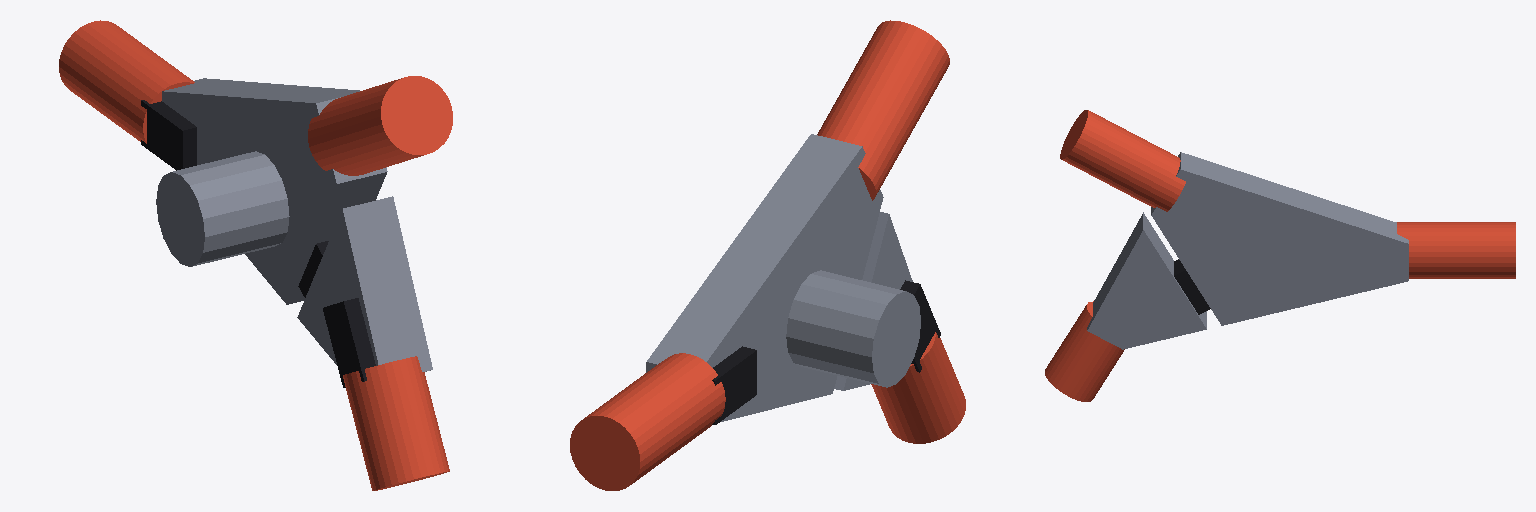
URDF robot description (g0053_c00):
<robot name="g0053_c00">
  <link name="palm">
    <visual name="palm_palm1">
      <origin xyz="0 0 0" rpy="0 0 0" />
      <geometry>
        <mesh filename="palm_palm1.obj" />
      </geometry>
      <material name="palm_palm1_mat">
        <color rgba="0.55 0.57 0.62 1" />
      </material>
    </visual>
    <collision>
      <origin xyz="0 0 0" rpy="0 0 0" />
      <geometry>
        <mesh filename="palm_palm1.obj" />
      </geometry>
    </collision>
    <visual name="palm_mount2">
      <origin xyz="0 0 0" rpy="0 0 0" />
      <geometry>
        <mesh filename="palm_mount2.obj" />
      </geometry>
      <material name="palm_mount2_mat">
        <color rgba="0.55 0.57 0.62 1" />
      </material>
    </visual>
    <collision>
      <origin xyz="0 0 0" rpy="0 0 0" />
      <geometry>
        <mesh filename="palm_mount2.obj" />
      </geometry>
    </collision>
    <visual name="palm_hinge3">
      <origin xyz="0 -0.0281458256 -0.01625" rpy="1.57079633 -1.04719755 -1.57079633" />
      <geometry>
        <box size="0.029 0.034 0.02" />
      </geometry>
      <material name="palm_hinge3_mat">
        <color rgba="0.15 0.15 0.17 1" />
      </material>
    </visual>
    <collision>
      <origin xyz="0 -0.0281458256 -0.01625" rpy="1.57079633 -1.04719755 -1.57079633" />
      <geometry>
        <box size="0.029 0.034 0.02" />
      </geometry>
    </collision>
    <visual name="palm_motor4">
      <origin xyz="0 -0.0335048095 0.03625" rpy="-1.57079633 -1.04719755 1.57079633" />
      <geometry>
        <box size="0.029 0.034 0.02" />
      </geometry>
      <material name="palm_motor4_mat">
        <color rgba="0.15 0.15 0.17 1" />
      </material>
    </visual>
    <collision>
      <origin xyz="0 -0.0335048095 0.03625" rpy="-1.57079633 -1.04719755 1.57079633" />
      <geometry>
        <box size="0.029 0.034 0.02" />
      </geometry>
    </collision>
    <visual name="palm_motor5">
      <origin xyz="-0.0045 0.0725 -4.5924255e-19" rpy="-3.14159265 6.123234e-17 3.74939946e-33" />
      <geometry>
        <box size="0.029 0.034 0.02" />
      </geometry>
      <material name="palm_motor5_mat">
        <color rgba="0.15 0.15 0.17 1" />
      </material>
    </visual>
    <collision>
      <origin xyz="-0.0045 0.0725 -4.5924255e-19" rpy="-3.14159265 6.123234e-17 3.74939946e-33" />
      <geometry>
        <box size="0.029 0.034 0.02" />
      </geometry>
    </collision>
    <inertial>
      <origin xyz="8.48538889e-20 0.0103744945 0.00765481849" rpy="1.57079633 0.253246537 1.57079633" />
      <mass value="0.36393629" />
      <inertia ixx="0.000163588147" ixy="0" ixz="0" iyy="0.000534194366" iyz="0" izz="0.000662844629" />
    </inertial>
  </link>
  <link name="palm0">
    <visual name="palm0_palm1">
      <origin xyz="0 0 0" rpy="0 0 0" />
      <geometry>
        <mesh filename="palm0_palm1.obj" />
      </geometry>
      <material name="palm0_palm1_mat">
        <color rgba="0.55 0.57 0.62 1" />
      </material>
    </visual>
    <collision>
      <origin xyz="0 0 0" rpy="0 0 0" />
      <geometry>
        <mesh filename="palm0_palm1.obj" />
      </geometry>
    </collision>
    <visual name="palm0_motor2">
      <origin xyz="-0.0045 -0.0416089838 -0.0135048095" rpy="1.04719755 -3.061617e-17 -5.30287619e-17" />
      <geometry>
        <box size="0.029 0.034 0.02" />
      </geometry>
      <material name="palm0_motor2_mat">
        <color rgba="0.15 0.15 0.17 1" />
      </material>
    </visual>
    <collision>
      <origin xyz="-0.0045 -0.0416089838 -0.0135048095" rpy="1.04719755 -3.061617e-17 -5.30287619e-17" />
      <geometry>
        <box size="0.029 0.034 0.02" />
      </geometry>
    </collision>
    <inertial>
      <origin xyz="0 -0.0279323457 -0.00603367783" rpy="-1.57079633 1.427369 -1.57079633" />
      <mass value="0.112935129" />
      <inertia ixx="2.86574104e-05" ixy="0" ixz="0" iyy="3.78470282e-05" iyz="0" izz="5.56626662e-05" />
    </inertial>
  </link>
  <link name="f0_link0">
    <visual name="f0_link0_link1">
      <origin xyz="0.029 0 -3.46944695e-18" rpy="-1.57079633 -0 -1.57079633" />
      <geometry>
        <cylinder radius="0.0165" length="0.049" />
      </geometry>
      <material name="f0_link0_link1_mat">
        <color rgba="0.85 0.35 0.25 1" />
      </material>
    </visual>
    <collision>
      <origin xyz="0.029 0 -3.46944695e-18" rpy="-1.57079633 -0 -1.57079633" />
      <geometry>
        <cylinder radius="0.0165" length="0.049" />
      </geometry>
    </collision>
    <inertial>
      <origin xyz="0.029 0 0" rpy="0 0 0" />
      <mass value="0.106270851" />
      <inertia ixx="1.35696277e-05" ixy="0" ixz="0" iyy="5.30015704e-05" iyz="0" izz="5.30015704e-05" />
    </inertial>
  </link>
  <link name="f1_link0">
    <visual name="f1_link0_link1">
      <origin xyz="0.039 0 -1.04083409e-17" rpy="-1.57079633 -0 -1.57079633" />
      <geometry>
        <cylinder radius="0.0165" length="0.069" />
      </geometry>
      <material name="f1_link0_link1_mat">
        <color rgba="0.85 0.35 0.25 1" />
      </material>
    </visual>
    <collision>
      <origin xyz="0.039 0 -1.04083409e-17" rpy="-1.57079633 -0 -1.57079633" />
      <geometry>
        <cylinder radius="0.0165" length="0.069" />
      </geometry>
    </collision>
    <inertial>
      <origin xyz="0.039 0 0" rpy="0 0 0" />
      <mass value="0.136206302" />
      <inertia ixx="1.76445909e-05" ixy="0" ixz="0" iyy="0.000104842911" iyz="0" izz="0.000104842911" />
    </inertial>
  </link>
  <link name="f2_link0">
    <visual name="f2_link0_link1">
      <origin xyz="0.039 0 -3.85185989e-34" rpy="-1.57079633 -0 -1.57079633" />
      <geometry>
        <cylinder radius="0.0165" length="0.069" />
      </geometry>
      <material name="f2_link0_link1_mat">
        <color rgba="0.85 0.35 0.25 1" />
      </material>
    </visual>
    <collision>
      <origin xyz="0.039 0 -3.85185989e-34" rpy="-1.57079633 -0 -1.57079633" />
      <geometry>
        <cylinder radius="0.0165" length="0.069" />
      </geometry>
    </collision>
    <inertial>
      <origin xyz="0.039 0 0" rpy="0 0 0" />
      <mass value="0.136206302" />
      <inertia ixx="1.76445909e-05" ixy="0" ixz="0" iyy="0.000104842911" iyz="0" izz="0.000104842911" />
    </inertial>
  </link>
  <joint name="palm0_joint" type="revolute">
    <parent link="palm" />
    <child link="palm0" />
    <origin xyz="0 -0.0346410162 -0.02" rpy="0 0 0" />
    <axis xyz="0 -0.5 0.866025404" />
    <limit effort="0.5" lower="-0.523598776" upper="0.523598776" velocity="5" />
    <dynamics damping="0.0775033" friction="0" />
  </joint>
  <joint name="f0_j0" type="revolute">
    <parent link="palm0" />
    <child link="f0_link0" />
    <origin xyz="-0.0045 -0.0453589838 -0.02" rpy="0 1.04719755 -1.57079633" />
    <axis xyz="0 1 6.123234e-17" />
    <limit effort="0.5" lower="-0.523598776" upper="0.523598776" velocity="5" />
    <dynamics damping="0.0775033" friction="0" />
  </joint>
  <joint name="f1_j0" type="revolute">
    <parent link="palm" />
    <child link="f1_link0" />
    <origin xyz="0 -0.04 0.04" rpy="-0 -0.523598776 -1.57079633" />
    <axis xyz="0 0 1" />
    <limit effort="0.5" lower="-0.523598776" upper="1.57079633" velocity="5" />
    <dynamics damping="0.0775033" friction="0" />
  </joint>
  <joint name="f2_j0" type="revolute">
    <parent link="palm" />
    <child link="f2_link0" />
    <origin xyz="-0.0045 0.08 0" rpy="-3.14159265 -6.123234e-17 1.57079633" />
    <axis xyz="0 1 6.123234e-17" />
    <limit effort="0.5" lower="-0.523598776" upper="0.523598776" velocity="5" />
    <dynamics damping="0.0775033" friction="0" />
  </joint>
</robot>

--- What the picture shows (computed from the rendered views, not written in the file) ---
The picture shows the robot from 3 angles, left to right: view 1: azimuth 30°, elevation 25°; view 2: azimuth 150°, elevation 25°; view 3: azimuth 270°, elevation 25°; orthographic projection.
Robot: g0053_c00 — 5 links, 4 joints (4 revolute); root link palm; default pose: all joints at 0.
Links seen in each view (by area): view 1: palm, palm0, f1_link0, f0_link0, f2_link0; view 2: palm, f2_link0, f1_link0, f0_link0, palm0; view 3: palm, palm0, f1_link0, f2_link0, f0_link0.
Link boxes in pixels (x1,y1,x2,y2): palm: [141, 78, 387, 304]; palm0: [297, 196, 432, 387]; f1_link0: [308, 76, 452, 175]; f0_link0: [343, 356, 449, 490]; f2_link0: [59, 20, 194, 143]; palm: [646, 134, 920, 424]; f2_link0: [570, 353, 725, 490]; f1_link0: [817, 20, 949, 200]; f0_link0: [871, 332, 965, 443]; palm0: [834, 212, 940, 390]; palm: [1151, 152, 1408, 325]; palm0: [1087, 212, 1206, 349]; f1_link0: [1060, 110, 1185, 211]; f2_link0: [1397, 222, 1515, 278]; f0_link0: [1045, 301, 1124, 401].
Size in the robot's own frame: 0.0685 by 0.2745 by 0.1856 metres.
Meshes: 3 distinct files referenced, 3 mesh visuals loaded (3 OBJ).
